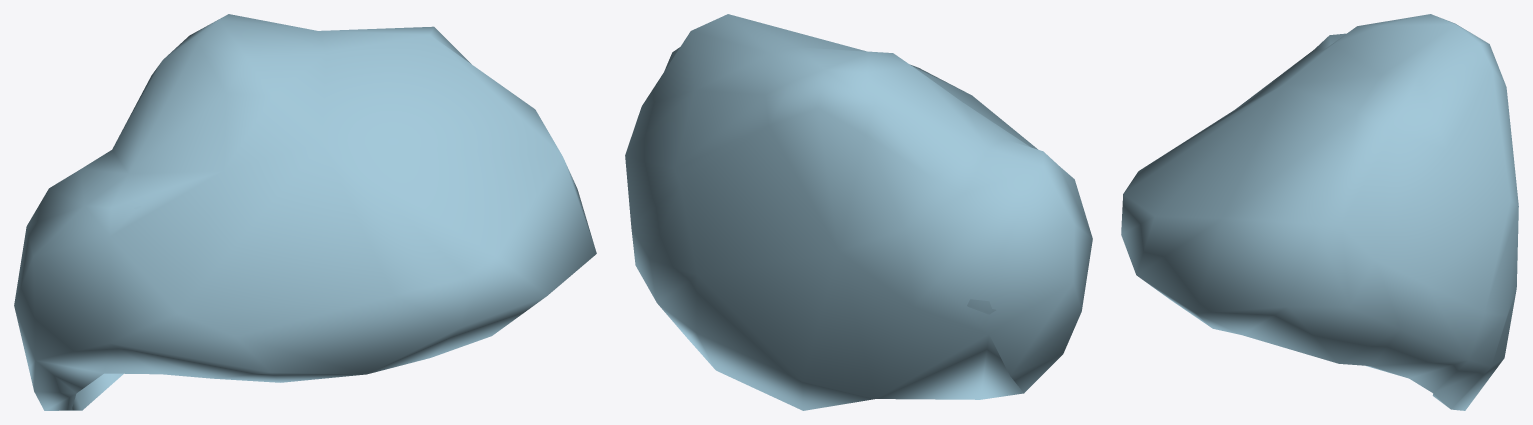
The model's file is articulacoes-articular-disc-of-temporomandibular-joint-l.glb.
The picture shows the model from 3 angles, left to right: view 1: azimuth 30°, elevation 25°; view 2: azimuth 150°, elevation 25°; view 3: azimuth 270°, elevation 25°; orthographic projection. The views are drawn at different scales.
Visible parts, largest first — view 1: Articular disc of temporomandibular joint.l; view 2: Articular disc of temporomandibular joint.l; view 3: Articular disc of temporomandibular joint.l.
Boxes of the visible parts, x1,y1,x2,y2 form: Articular disc of temporomandibular joint.l: (14, 14, 596, 410); Articular disc of temporomandibular joint.l: (625, 14, 1092, 410); Articular disc of temporomandibular joint.l: (1121, 14, 1518, 410).
Bounding box in the file's own units: 0.0193 × 0.0134 × 0.0139.
